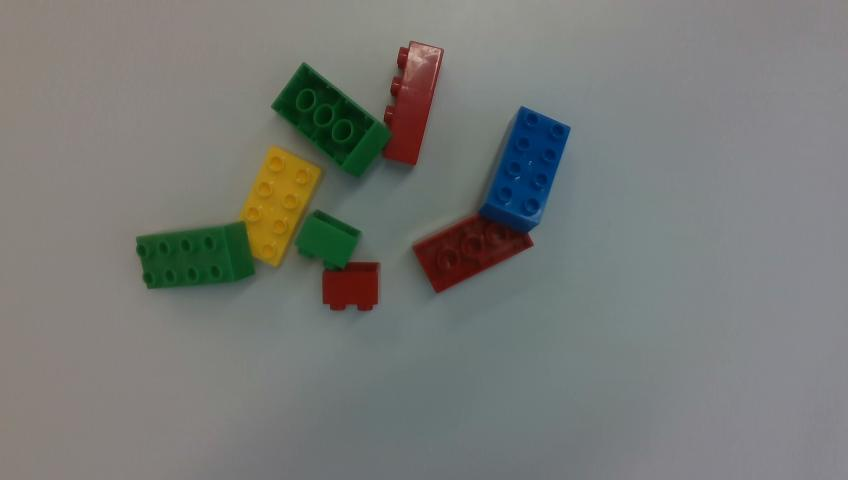2x2_green: (295, 209, 360, 269)
2x2_red: (322, 262, 379, 310)
4x2_blue: (479, 107, 569, 232)
4x2_green: (273, 63, 390, 177), (136, 222, 254, 288)
4x2_red: (413, 215, 533, 292), (383, 41, 442, 164)
4x2_yellow: (239, 146, 320, 266)
